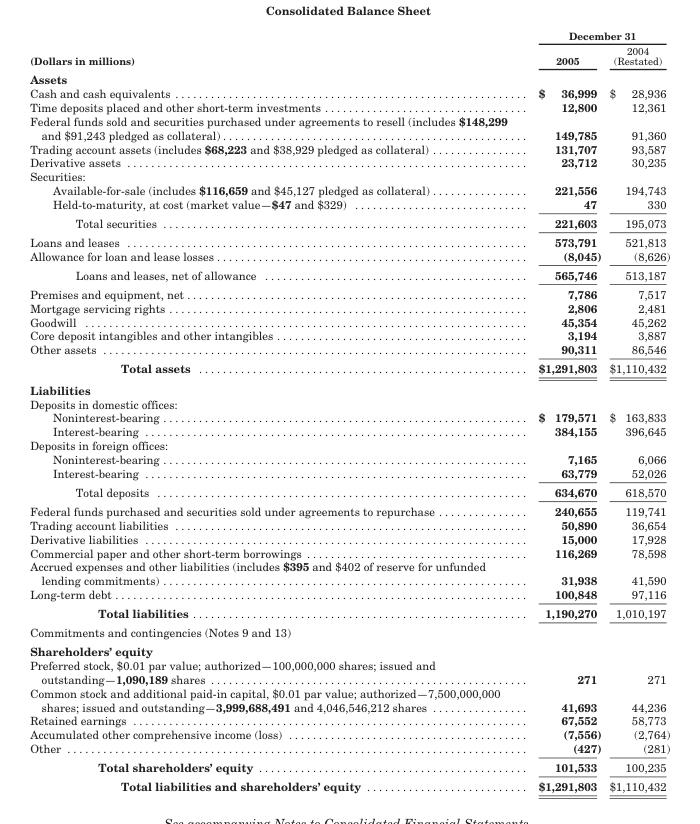table: (29, 29, 669, 792)
table column: (29, 29, 522, 792), (522, 29, 604, 792), (604, 29, 669, 792)
table column header: (29, 29, 669, 69)
table projected row header: (29, 622, 669, 641), (29, 378, 669, 396), (29, 69, 669, 85), (29, 641, 669, 657), (29, 169, 669, 183), (29, 396, 669, 410), (29, 438, 669, 451)
table row: (29, 113, 669, 141), (29, 559, 669, 587), (29, 657, 669, 685), (29, 685, 669, 713), (29, 42, 669, 69), (29, 358, 669, 378), (29, 213, 669, 232), (29, 265, 669, 284), (29, 482, 669, 501), (29, 603, 669, 622), (29, 622, 669, 641), (29, 757, 669, 776), (29, 378, 669, 396), (29, 196, 669, 213), (29, 248, 669, 265), (29, 465, 669, 482), (29, 69, 669, 85), (29, 232, 669, 248), (29, 284, 669, 300), (29, 342, 669, 358), (29, 501, 669, 517), (29, 587, 669, 603), (29, 641, 669, 657), (29, 741, 669, 757), (29, 776, 669, 792), (29, 85, 669, 99), (29, 99, 669, 113), (29, 141, 669, 155), (29, 155, 669, 169), (29, 169, 669, 183), (29, 300, 669, 314), (29, 314, 669, 328), (29, 328, 669, 342), (29, 396, 669, 410), (29, 410, 669, 424), (29, 424, 669, 438), (29, 451, 669, 465), (29, 517, 669, 531), (29, 531, 669, 545), (29, 545, 669, 559), (29, 713, 669, 727), (29, 727, 669, 741), (29, 29, 669, 42), (29, 183, 669, 196), (29, 438, 669, 451)
table spanning cell: (29, 29, 522, 69), (522, 29, 669, 42)
